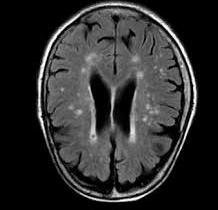Normal_Brain: (28, 1, 199, 210)
